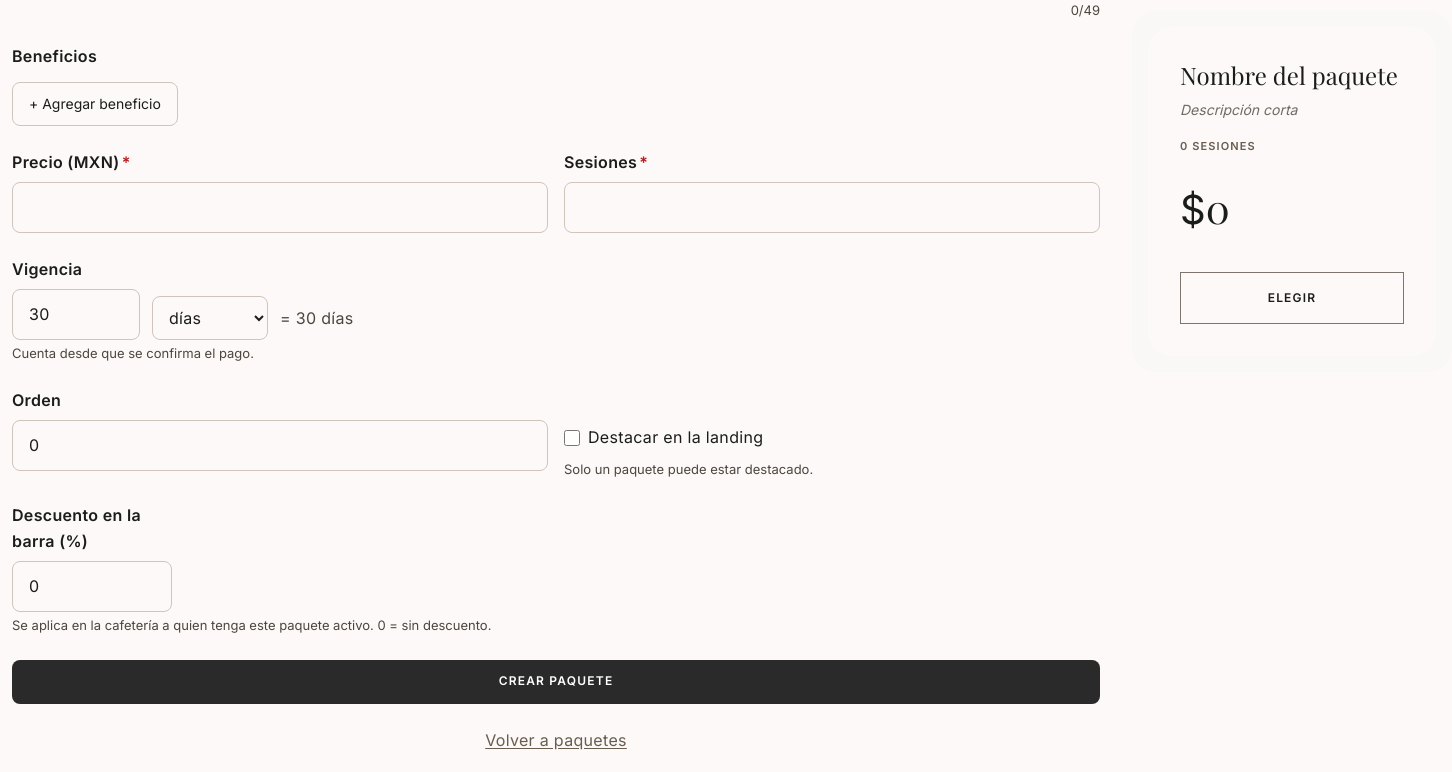
PackageForm — envío › no envía si hay errores y los muestra bajo cada campo
This screenshot has width=1452, height=772.
(page scrolled)
Click the button "Crear paquete".
click(556, 682)  # box [12,660,1100,704]
(page scrolled)
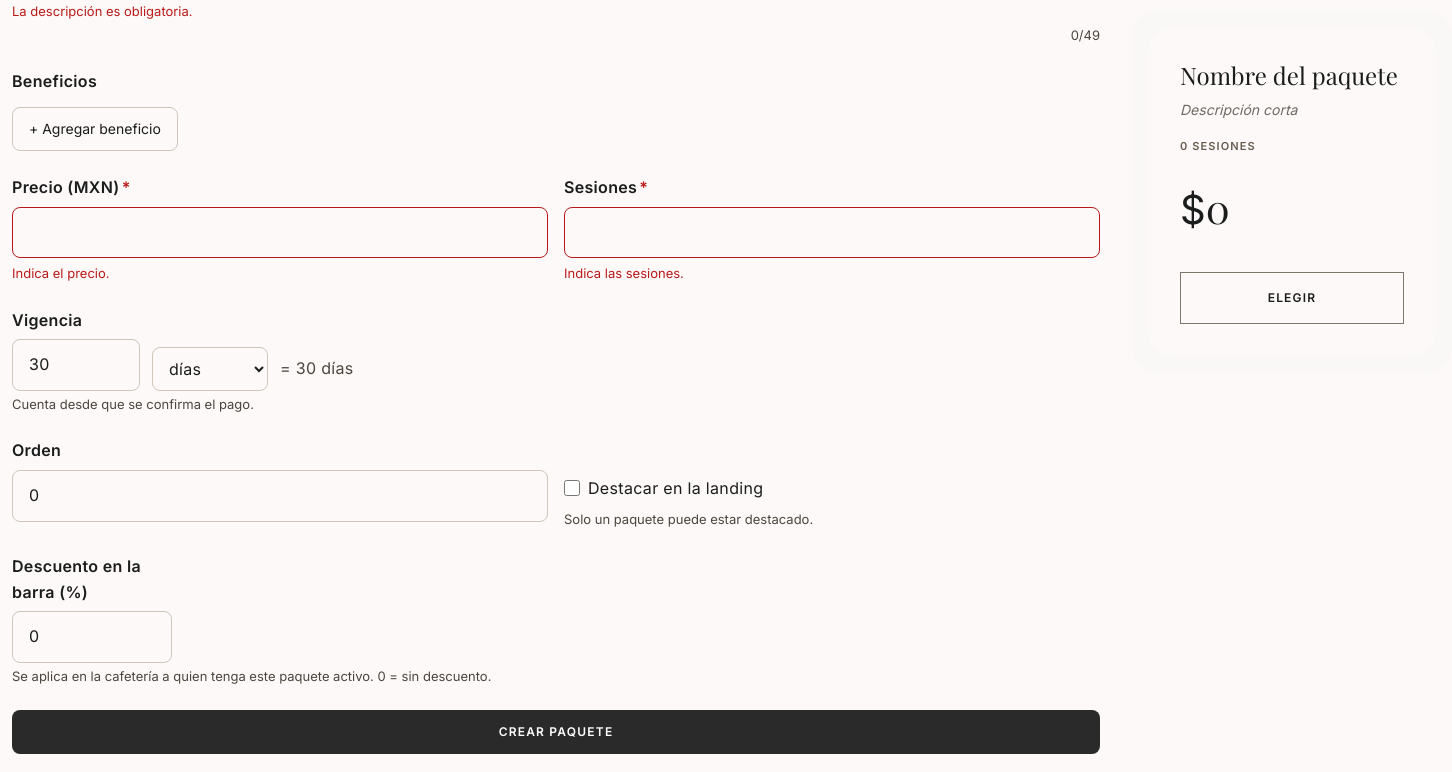
Check: the text "La descripción es obligatoria." is shown, box [12,4,192,20]
